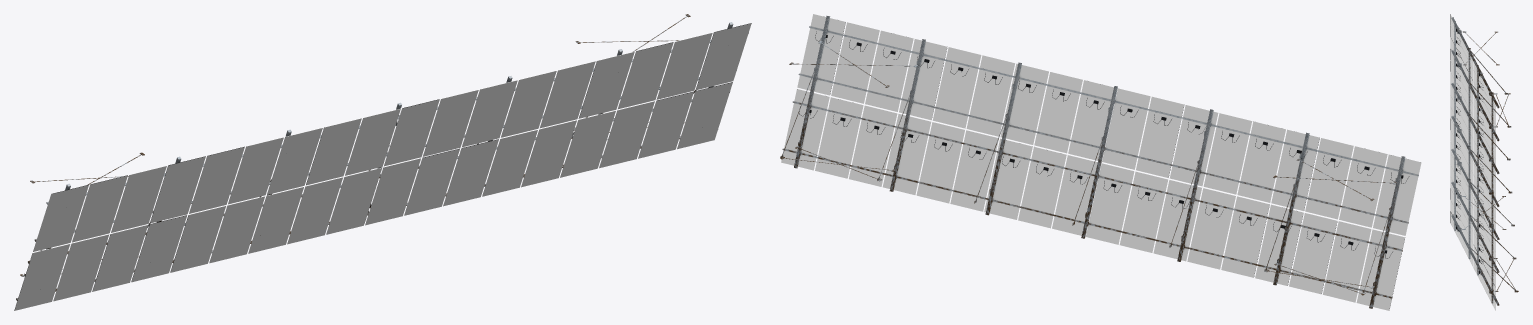
Rendered from full_table_racking.obj.
The picture shows the model from 3 angles, left to right: view 1: azimuth 30°, elevation 25°; view 2: azimuth 150°, elevation 25°; view 3: azimuth 270°, elevation 25°; orthographic projection. The views are drawn at different scales.
Visible parts, largest first — view 1: full_table_racking; view 2: full_table_racking; view 3: full_table_racking.
Part boxes in pixels (bbox=[...]): full_table_racking: bbox=[14, 14, 751, 310]; full_table_racking: bbox=[780, 14, 1421, 310]; full_table_racking: bbox=[1450, 14, 1518, 310].
Size of the model in its own units: 20.33 by 4.12 by 2.8.
Materials: 1 (1 with a texture image).
